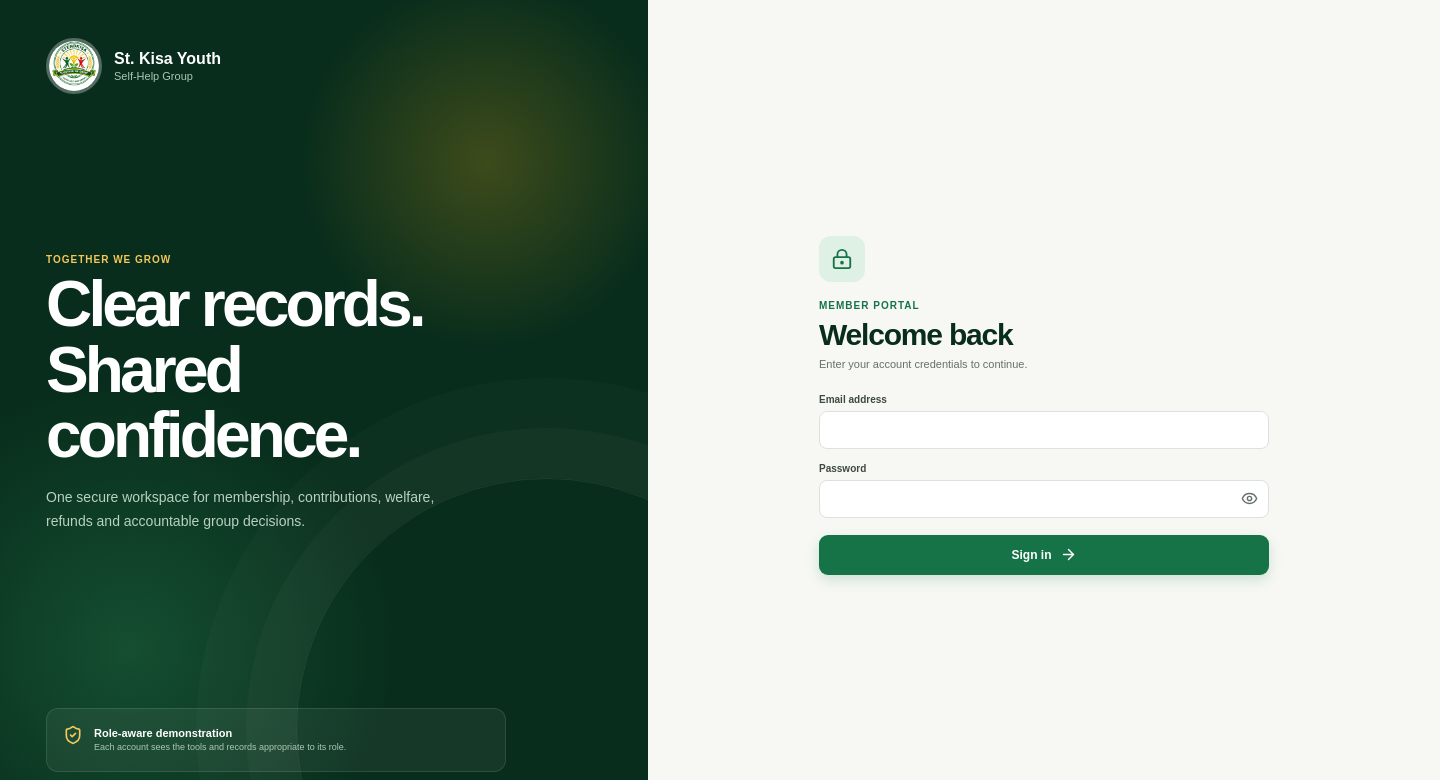
Test: St. Kisa member portal › renders the /contributions workspace
This screenshot has width=1440, height=780.
In the field labelled "Email address": (1044, 430) [819,410,1269,448], type "admin@stkisa.org"
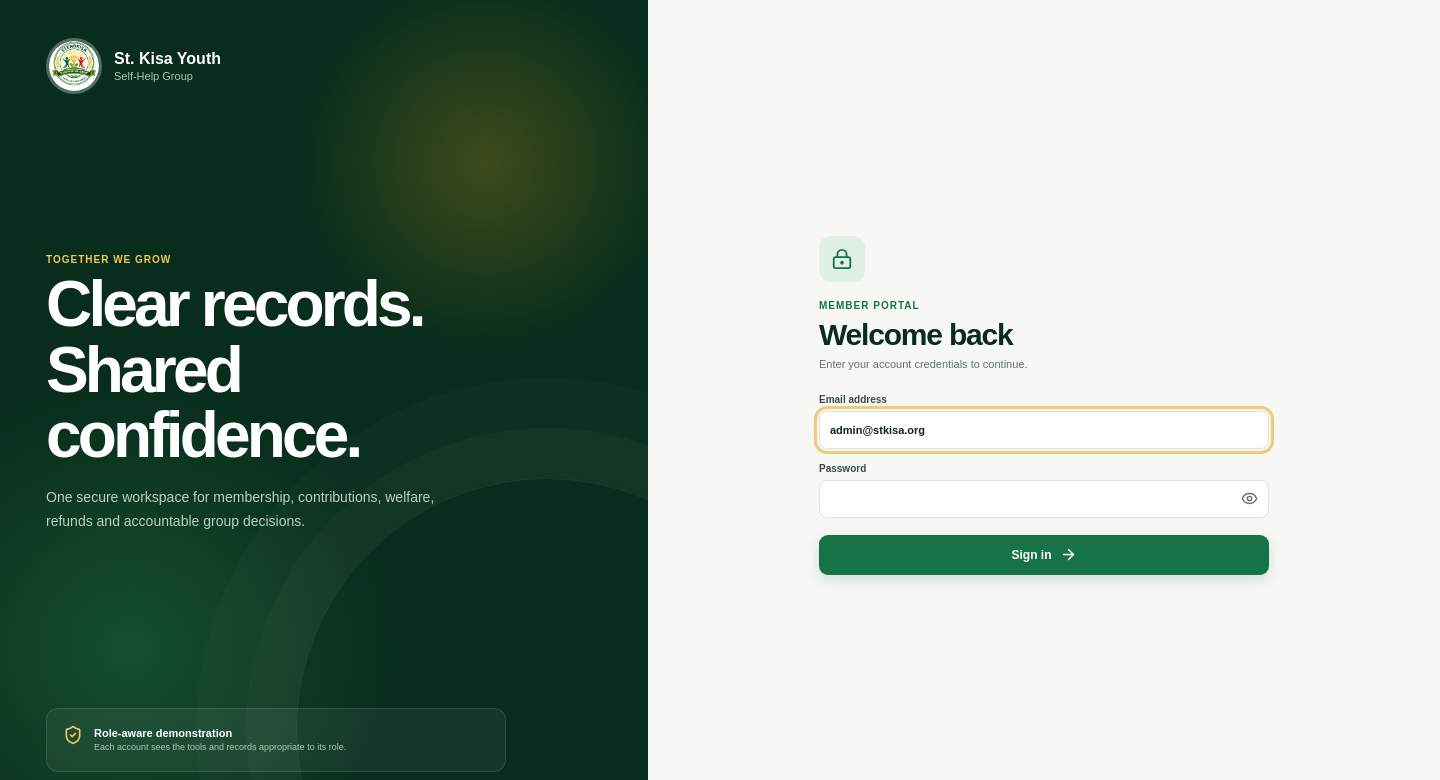
In the password field labelled "Password": (1044, 498) [819,480,1269,518], type "Demo@2026"
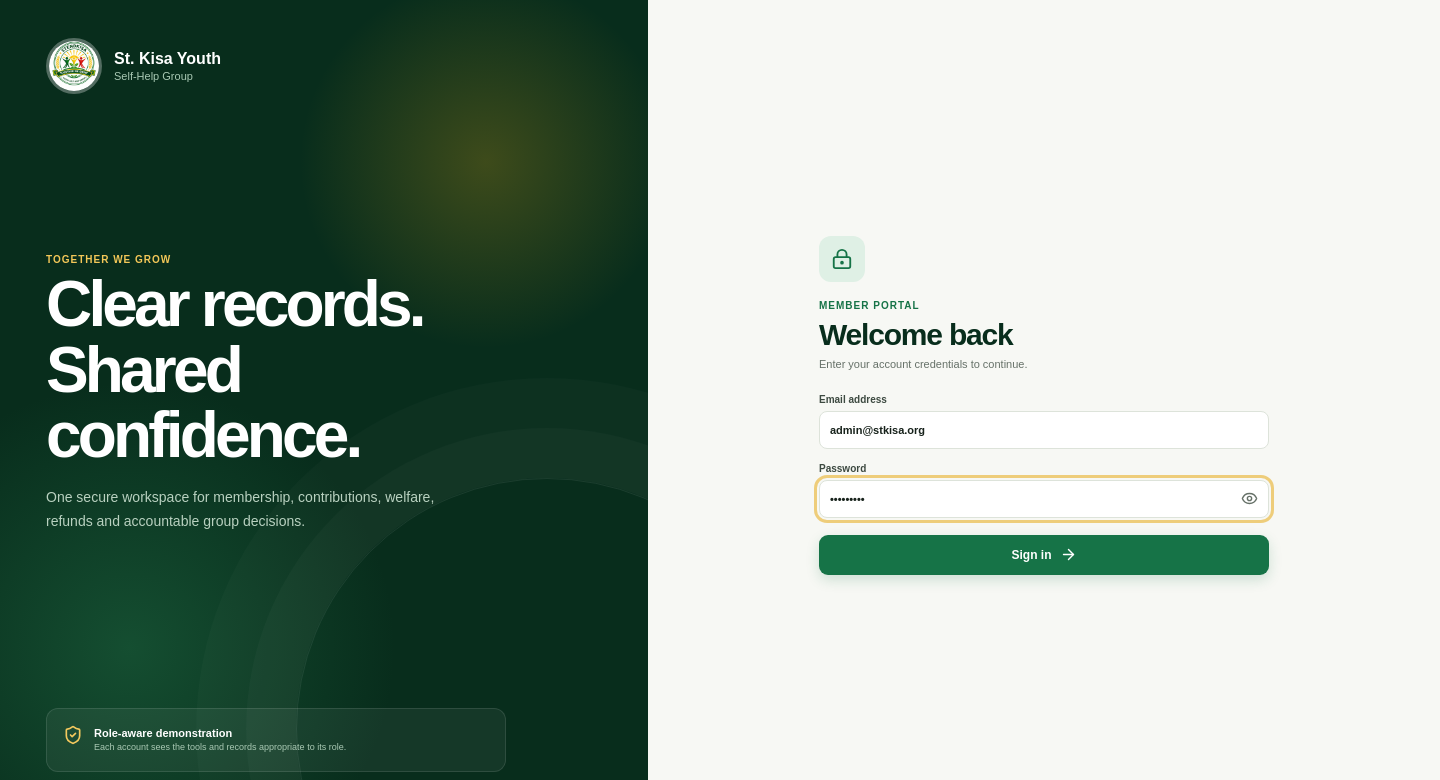
Click the button "Sign in": (1044, 554) [819,534,1269,574]
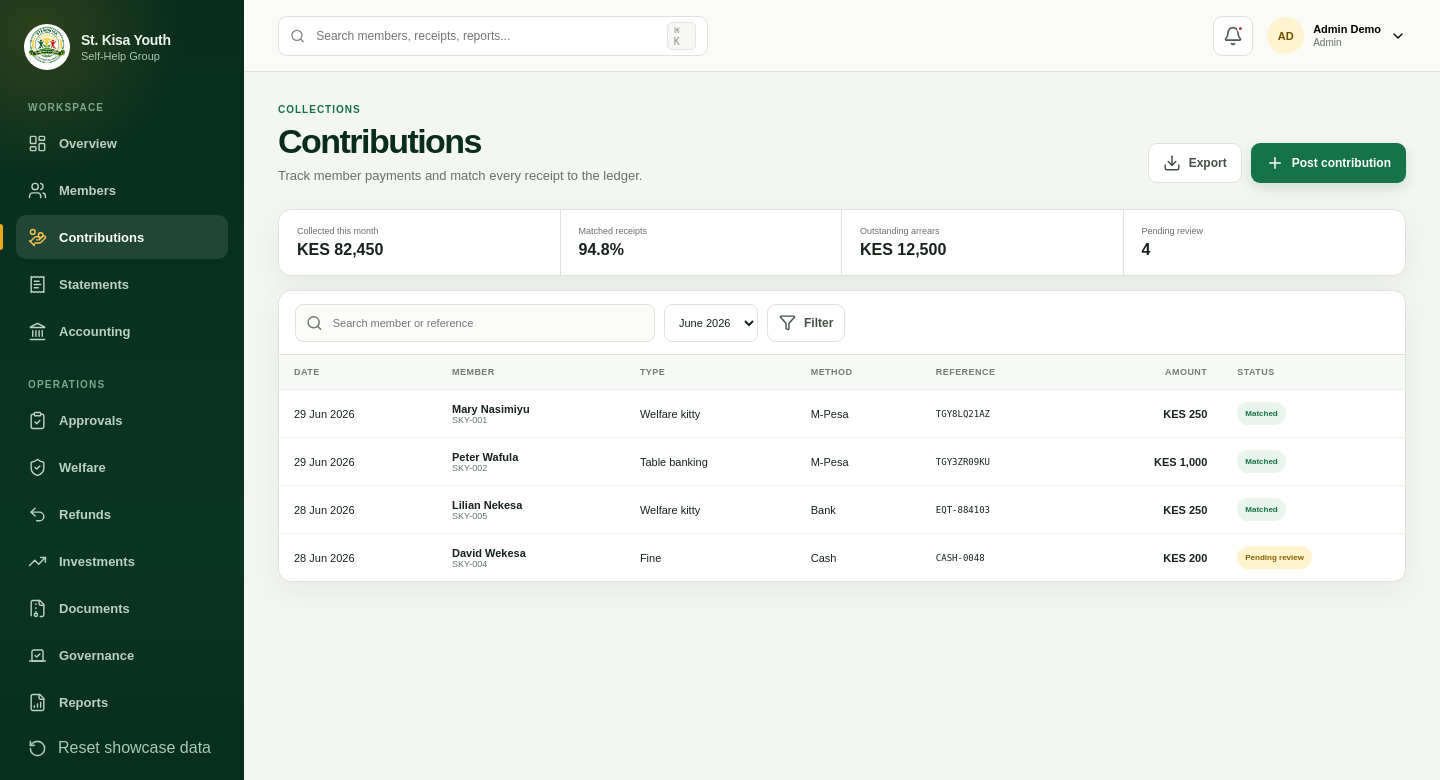
Expected: the heading "Contributions" is shown, [278,122,481,160]
